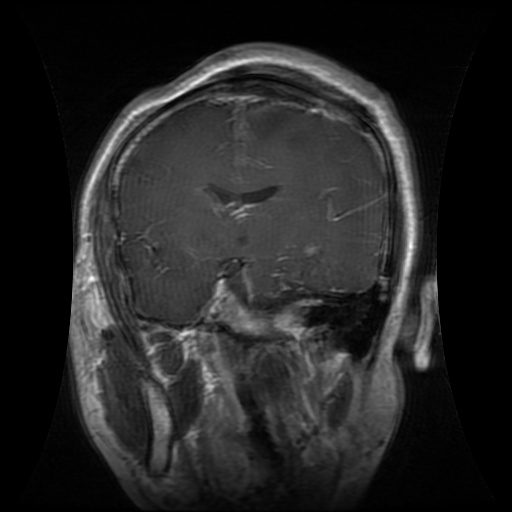glioma: (241, 99, 300, 141)
